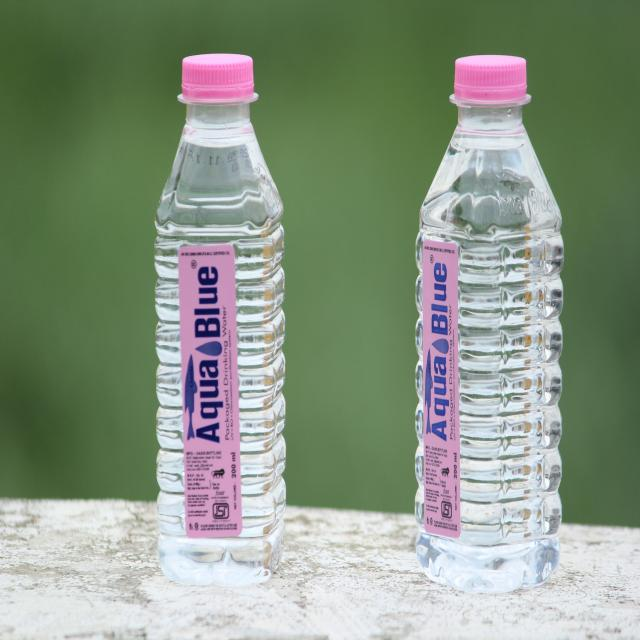plastic_bottle: (152, 60, 288, 578), (428, 76, 558, 584)
